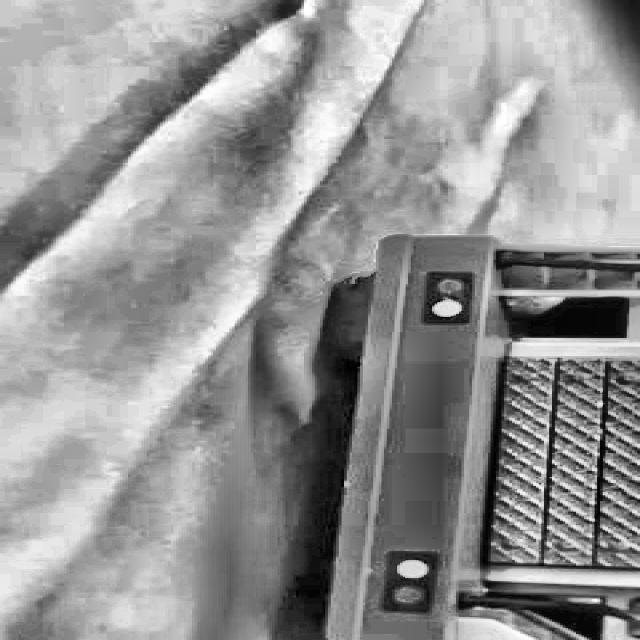dump_truck: (306, 231, 640, 640)
